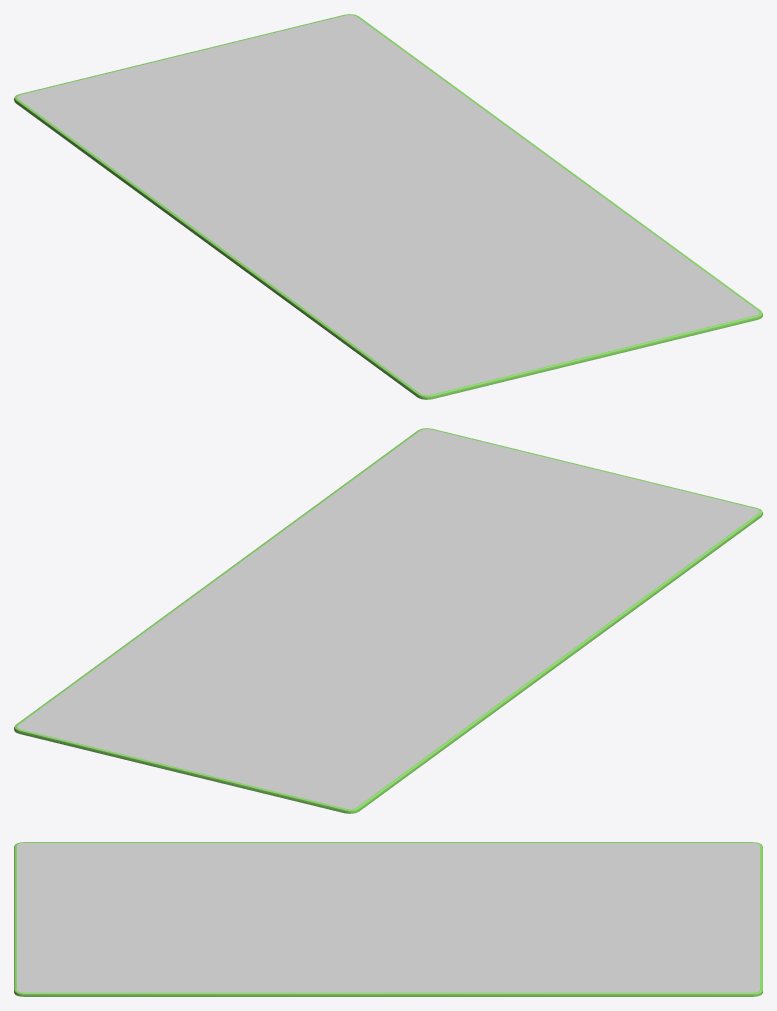
The model's file is Casino_Platform_01.fbx.
3 views of the same model, one above another, from view 1: azimuth 30°, elevation 25°; view 2: azimuth 150°, elevation 25°; view 3: azimuth 270°, elevation 25° (orthographic). The views are drawn at different scales.
Visible parts, largest first — view 1: Casino_Platform_01; view 2: Casino_Platform_01; view 3: Casino_Platform_01.
Part boxes in pixels (<box>): Casino_Platform_01: <box>14,14,762,399</box>; Casino_Platform_01: <box>14,428,762,813</box>; Casino_Platform_01: <box>14,842,762,996</box>.
Bounding box in the file's own units: 702 × 6.54 × 1462.
